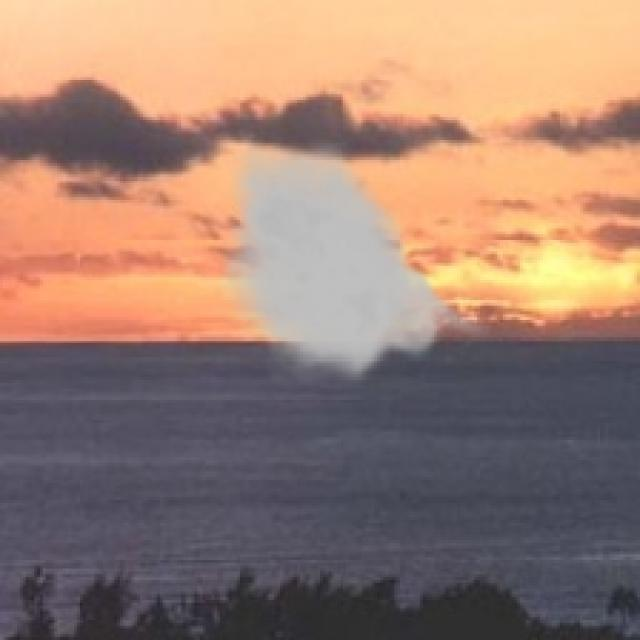Smoke: (217, 128, 494, 388)
